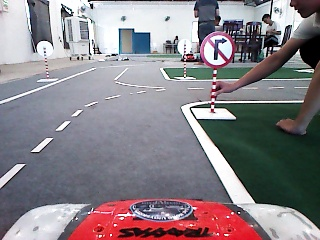ban: (197, 29, 236, 71)
